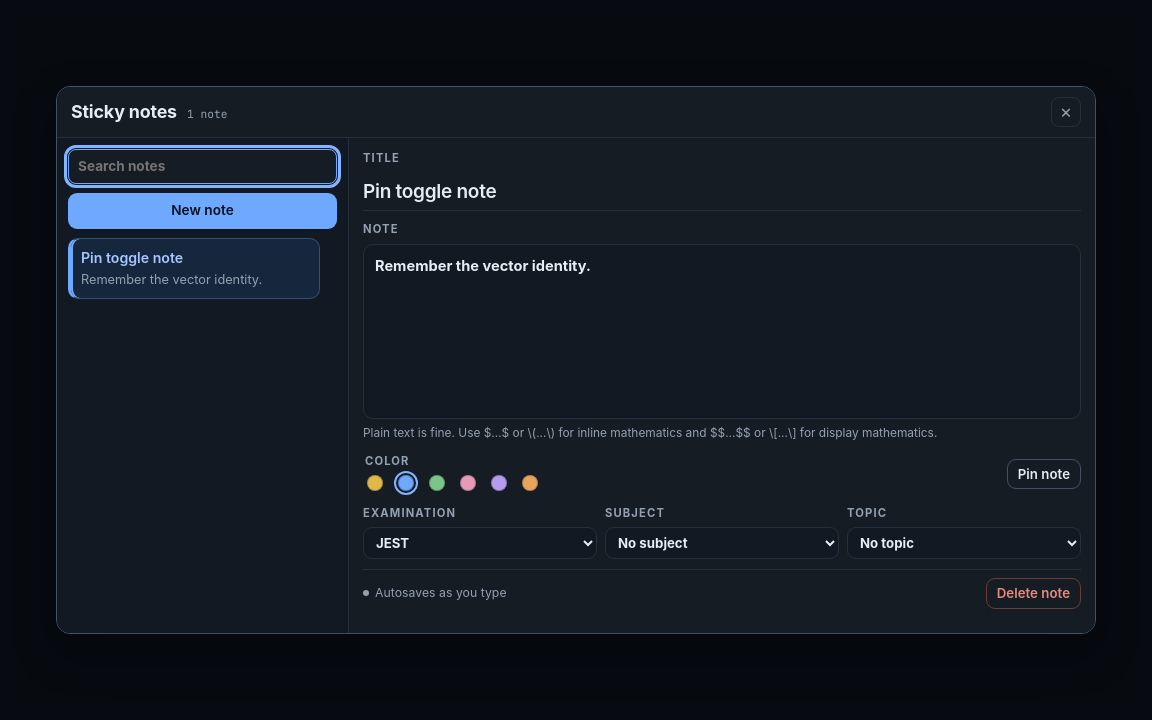
Test: Notes surfaces › pins and unpins a note through the shared save path
Expected: the field labelled "Title" holds "Pin toggle note", [363,173,1081,211]
Expected: the button with aria-label "Open sticky note Pin toggle note" is shown, [68,238,320,299]
Step 1. Click the button "Pin note" → (1044,474), box [1007,459,1081,489]
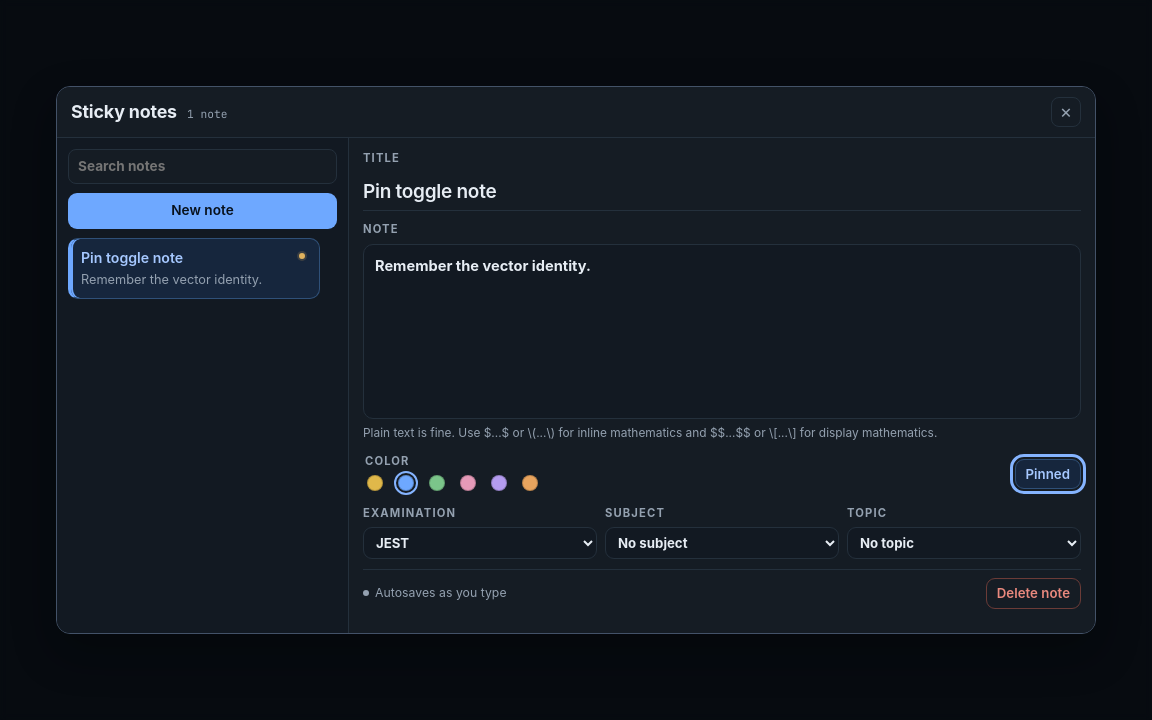
Expected: the button named "Pin note" reads "Pinned"
Expected: the button with aria-label "Open sticky note Pin toggle note (pinned)" is shown, [68,238,320,299]
Step 2. Click the button named "Pin note" → (1048,474), box [1014,459,1081,489]
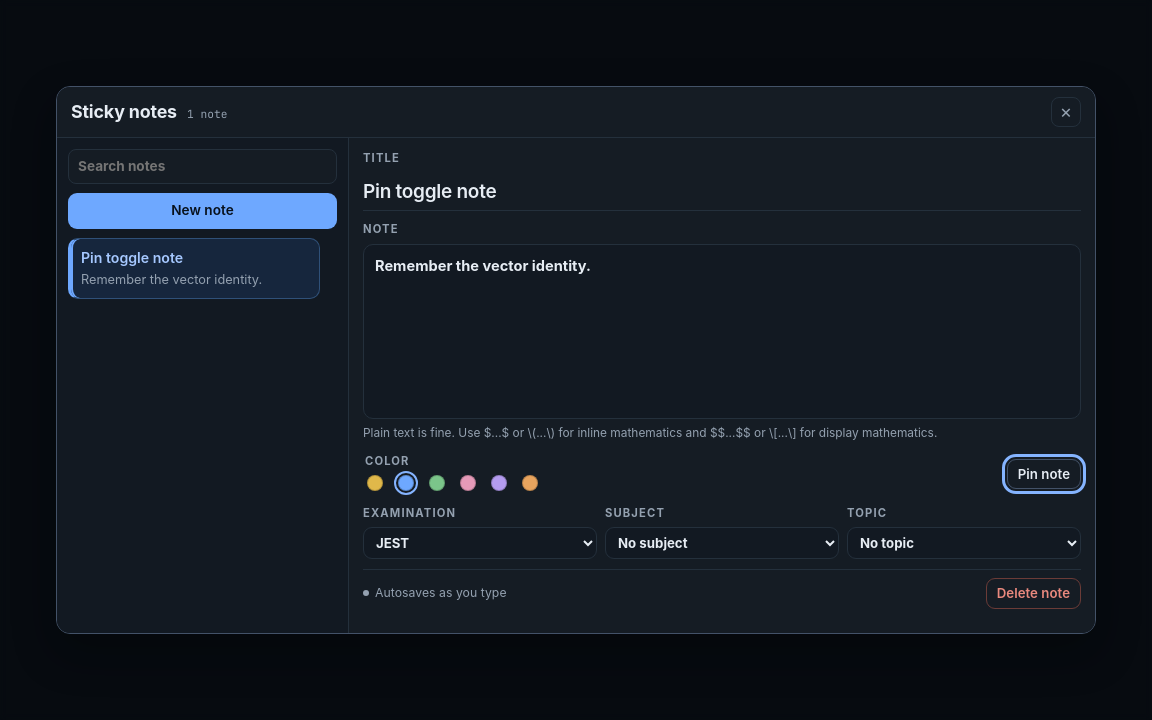
Expected: the button with aria-label "Open sticky note Pin toggle note" is shown, [68,238,320,299]
Expected: the button "Pin note" is shown, [1007,459,1081,489]
